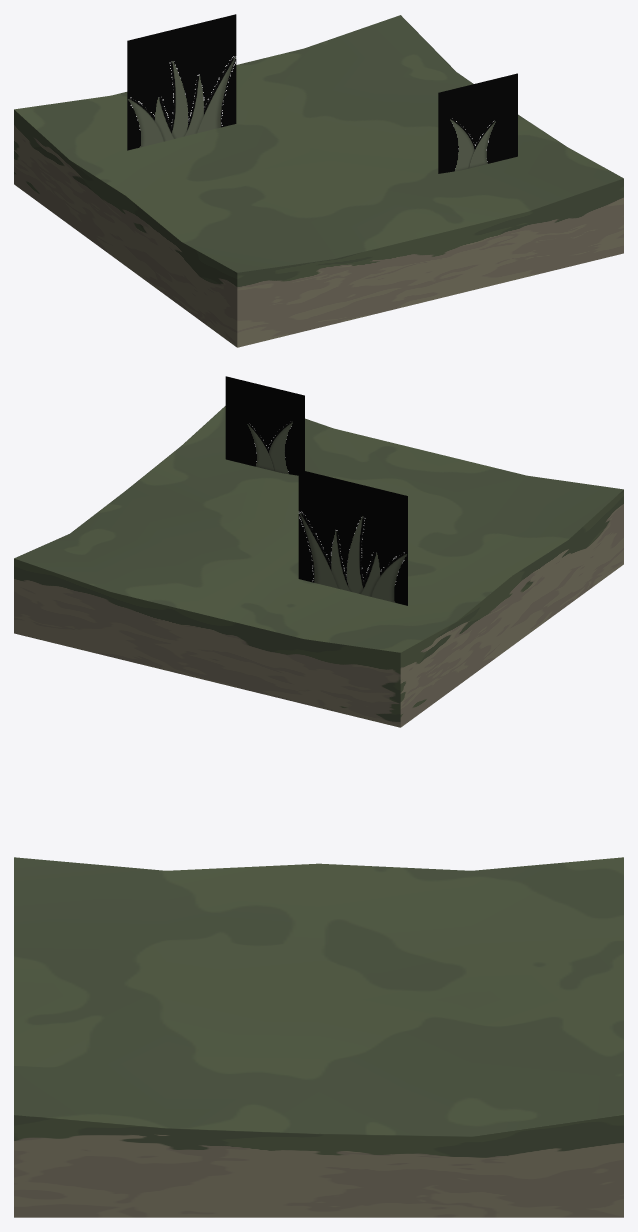
The model's file is GrassTile3.fbx.
3 renders of one model, top to bottom at view 1: azimuth 30°, elevation 25°; view 2: azimuth 150°, elevation 25°; view 3: azimuth 270°, elevation 25°, orthographic. The views are drawn at different scales.
Parts seen in each view (by area): view 1: GrassTile3, Grass1.005, Grass1.006; view 2: GrassTile3, Grass1.005, Grass1.006; view 3: GrassTile3.
Part boxes in pixels (x1=…): GrassTile3: x1=14, y1=15, x2=623, y2=347; Grass1.005: x1=127, y1=14, x2=236, y2=150; Grass1.006: x1=438, y1=73, x2=517, y2=173; GrassTile3: x1=14, y1=406, x2=623, y2=727; Grass1.005: x1=298, y1=469, x2=407, y2=605; Grass1.006: x1=225, y1=376, x2=304, y2=475; GrassTile3: x1=14, y1=857, x2=623, y2=1217.
Size of the model in its own units: 200 by 86.33 by 200.
3 materials, 3 textured.
